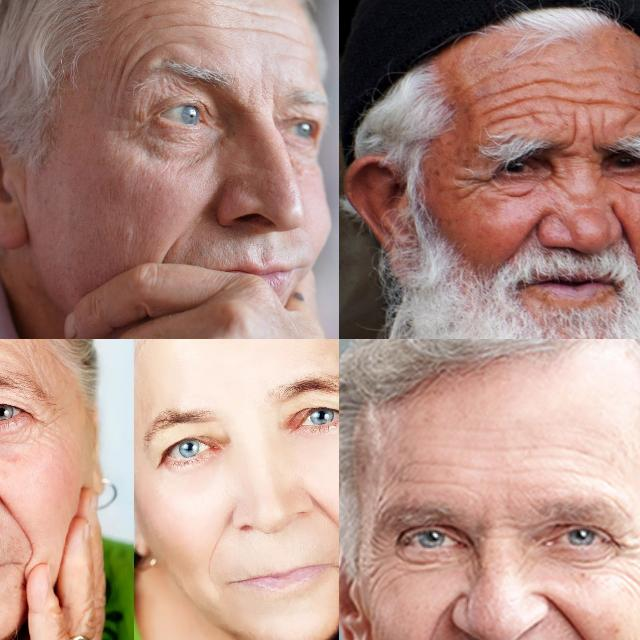crows_feet: (368, 529, 396, 585), (611, 529, 640, 577), (30, 409, 66, 441), (460, 167, 496, 195)
forehead: (484, 87, 528, 125), (538, 74, 570, 118), (578, 76, 614, 115), (111, 44, 143, 84), (117, 4, 151, 36), (216, 0, 267, 20), (235, 20, 279, 42), (178, 20, 220, 38), (628, 83, 640, 129)
frown_line: (473, 507, 519, 547), (586, 122, 604, 150), (566, 122, 582, 152)
gummy_smile: (547, 594, 593, 640), (608, 203, 640, 261), (202, 514, 232, 572), (0, 492, 30, 546), (420, 593, 453, 640), (512, 210, 542, 252), (313, 494, 339, 541)
sad_smile: (153, 235, 187, 265)
